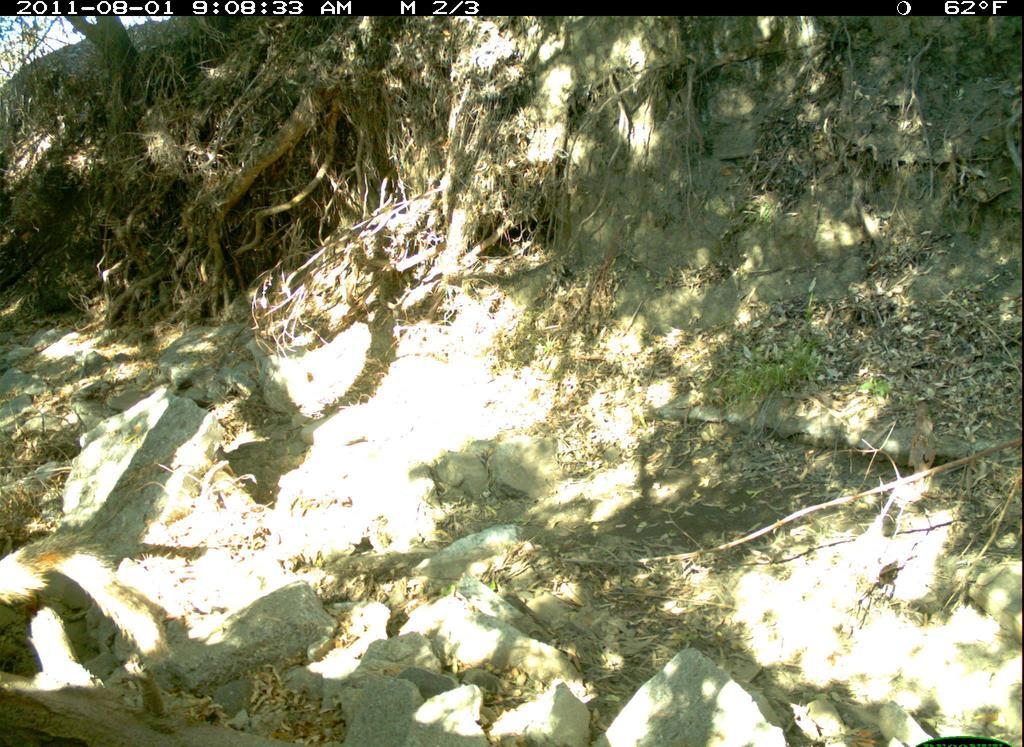squirrel: (7, 529, 168, 667)
